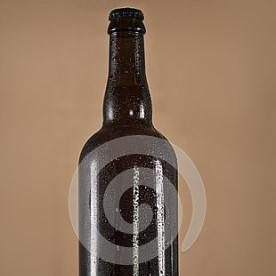beer: (75, 8, 179, 276)
